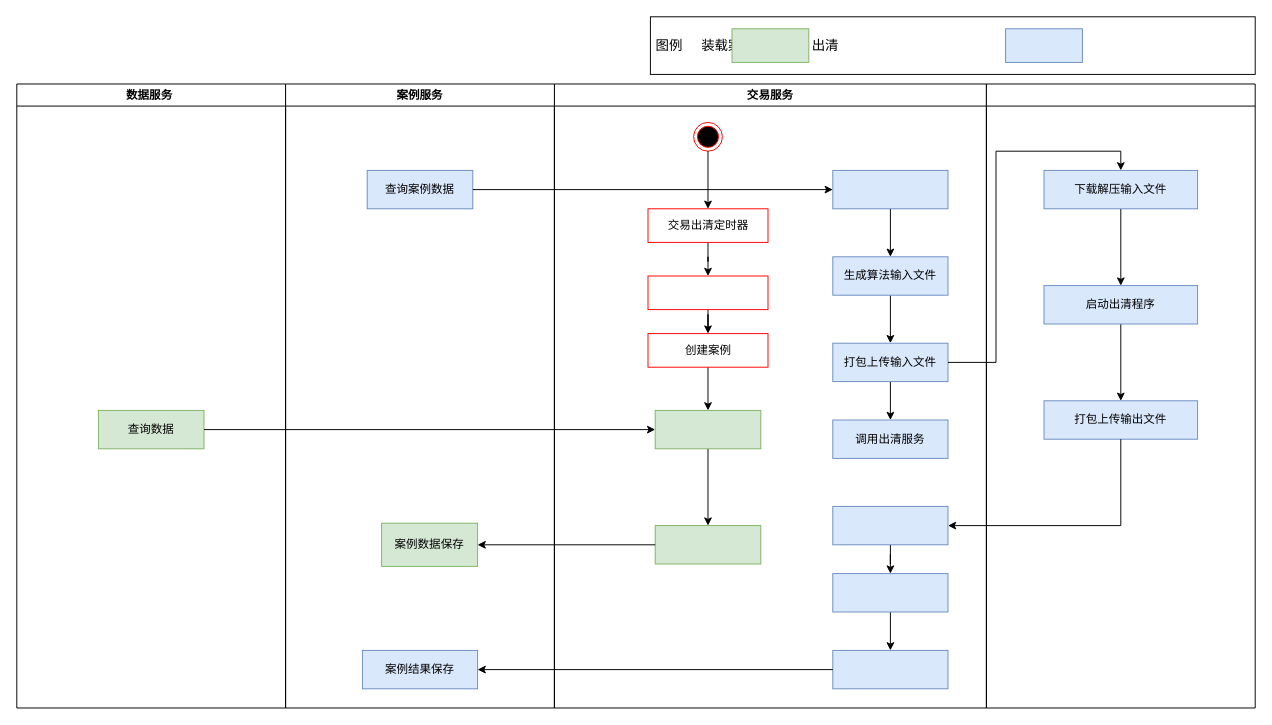
The diagram is 1272 pixels wide and 725 high, and some of its shapes have lost their labels. Each missing label, with the box of its shape:
下载解压输出文件: (832, 505, 948, 545)
交易出清任务: (647, 275, 768, 310)
执行出清: (832, 169, 948, 209)
案例数据入库: (654, 525, 761, 564)
案例结果入库: (832, 649, 948, 689)
算法调用服务: (985, 83, 1255, 708)
装载案例数据: (654, 409, 761, 449)
解析输出文件: (832, 573, 948, 612)
